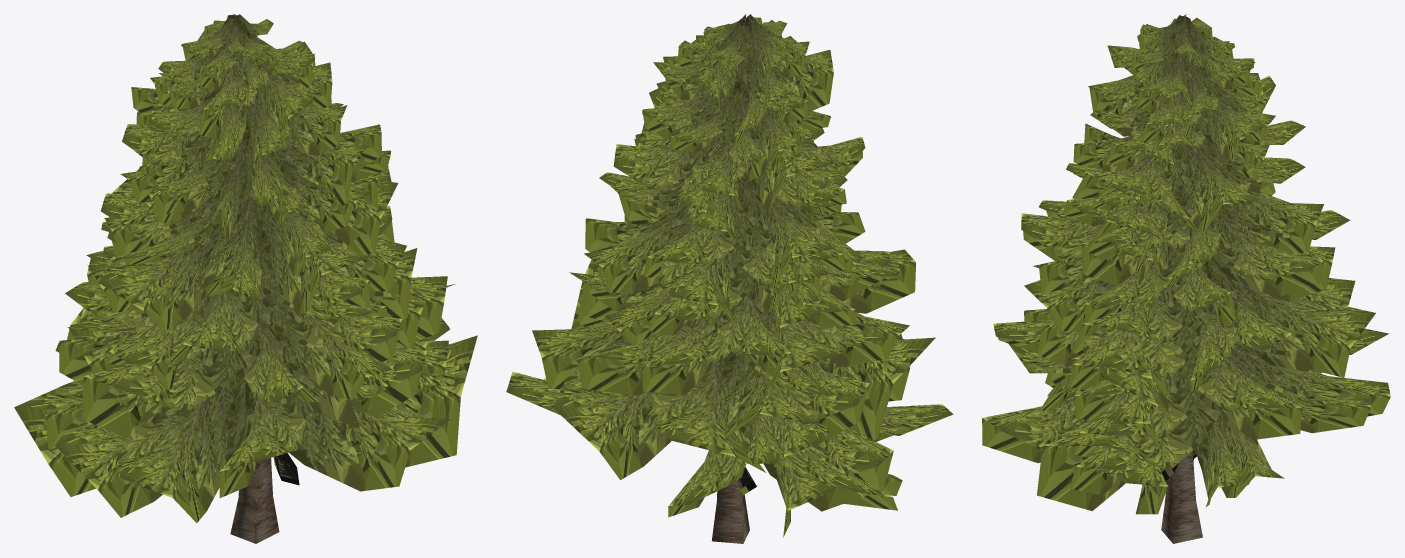
The model's file is Tree_01.fbx.
3 renders of one model, left to right at view 1: azimuth 30°, elevation 25°; view 2: azimuth 150°, elevation 25°; view 3: azimuth 270°, elevation 25°, orthographic. The views are drawn at different scales.
Visible parts, largest first — view 1: SM_PineTree_01, SM_PineTree_01_Trunk; view 2: SM_PineTree_01, SM_PineTree_01_Trunk; view 3: SM_PineTree_01, SM_PineTree_01_Trunk.
Boxes of the visible parts, <box> form: SM_PineTree_01: <box>14,14,477,522</box>; SM_PineTree_01_Trunk: <box>230,431,279,543</box>; SM_PineTree_01: <box>506,14,953,537</box>; SM_PineTree_01_Trunk: <box>712,480,749,543</box>; SM_PineTree_01: <box>982,14,1390,514</box>; SM_PineTree_01_Trunk: <box>1161,450,1202,543</box>.
Size of the model in its own units: 263 by 354 by 257.
